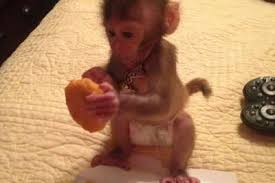monkey: (60, 0, 214, 183)
